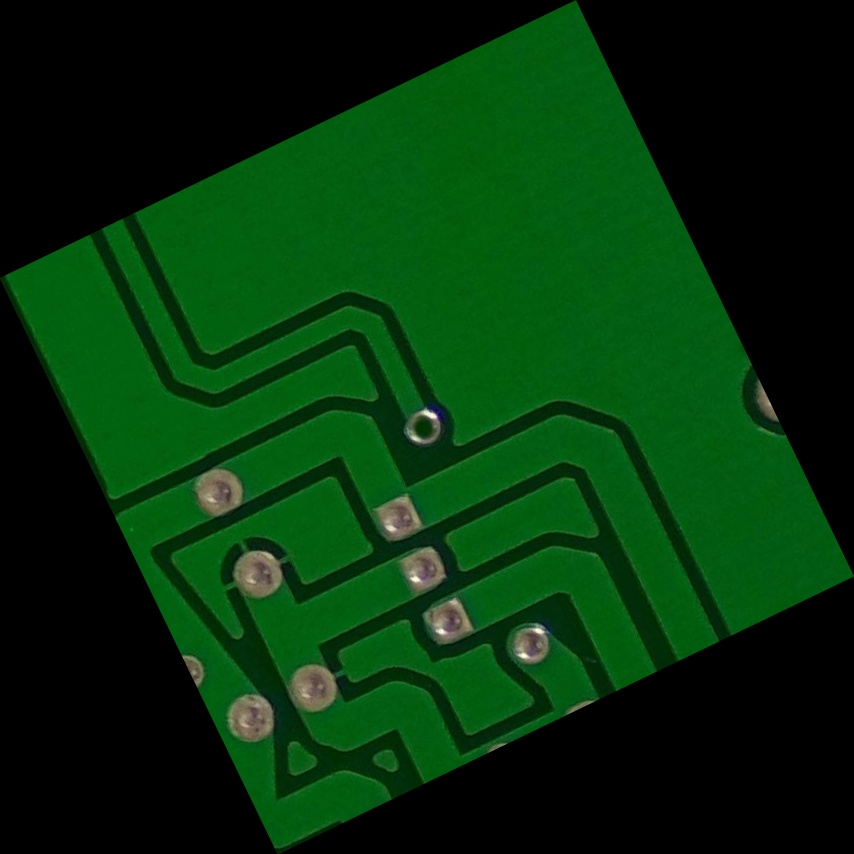missing_hole: (387, 386, 469, 469)
